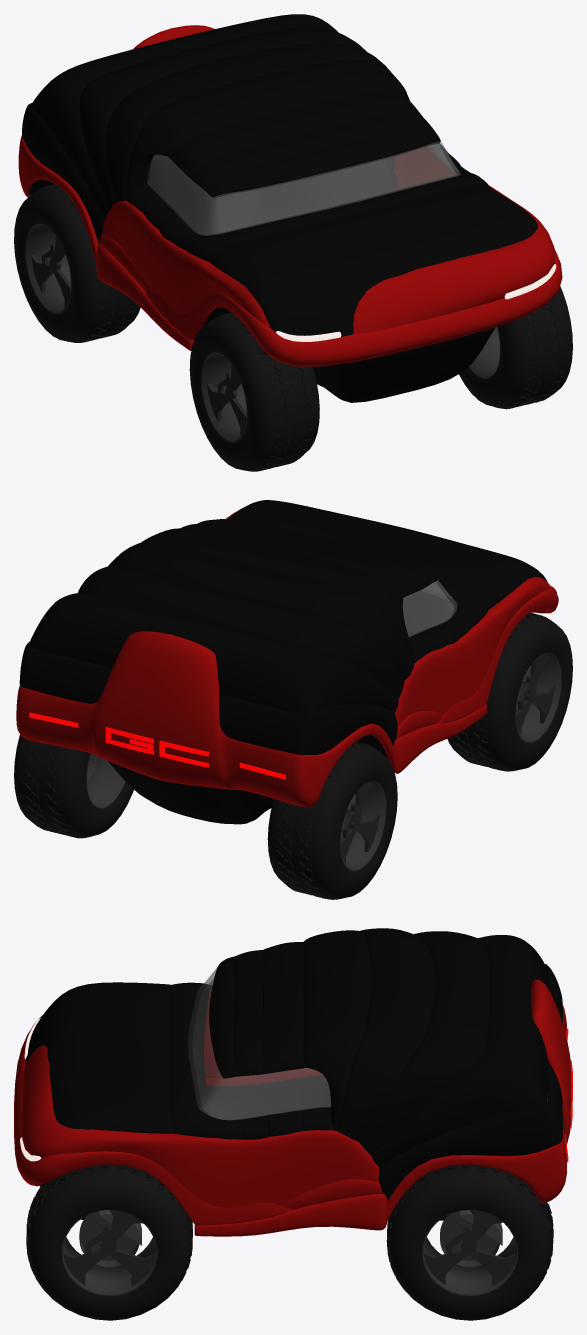
3 renders of one model, top to bottom at view 1: azimuth 30°, elevation 25°; view 2: azimuth 150°, elevation 25°; view 3: azimuth 270°, elevation 25°, orthographic. The views are drawn at different scales.
Visible parts, largest first — view 1: body_paint_base, tire (×3), body_paint_trim_1, body_paint_sole, body_glass, body_paint_trim_2, rim_barrel (×3), body_paint_trim_5, rim_face (×2), body_paint_trim_4, body_paint_trim_3, body_light_head; view 2: body_paint_base, tire (×3), body_paint_trim_5, body_paint_trim_1, body_paint_sole, rim_barrel (×3), rim_face (×2), body_paint_trim_2, body_glass, body_paint_trim_4, body_light_tail, body_paint_trim_3; view 3: body_paint_base, tire (×2), body_paint_trim_1, body_glass, body_paint_trim_5, body_paint_trim_2, rim_face (×2), body_paint_trim_4, rim_barrel (×2), body_paint_sole, brake_disc (×2), body_paint_trim_3.
Part boxes in pixels (bbox=[...]): body_paint_base: bbox=[22, 14, 538, 336]; tire (×3): bbox=[14, 184, 572, 471]; body_paint_trim_1: bbox=[102, 146, 554, 334]; body_paint_sole: bbox=[28, 155, 495, 402]; body_glass: bbox=[147, 141, 460, 235]; body_paint_trim_2: bbox=[145, 250, 562, 366]; rim_barrel (×3): bbox=[25, 223, 500, 442]; body_paint_trim_5: bbox=[18, 25, 214, 265]; rim_face (×2): bbox=[31, 235, 246, 436]; body_paint_trim_4: bbox=[96, 178, 402, 350]; body_paint_trim_3: bbox=[99, 163, 402, 292]; body_light_head: bbox=[276, 264, 556, 341]; body_paint_base: bbox=[19, 500, 547, 755]; tire (×3): bbox=[14, 613, 572, 899]; body_paint_trim_5: bbox=[16, 631, 396, 807]; body_paint_trim_1: bbox=[225, 507, 550, 725]; body_paint_sole: bbox=[108, 595, 453, 824]; rim_barrel (×3): bbox=[86, 652, 561, 871]; rim_face (×2): bbox=[340, 653, 554, 863]; body_paint_trim_2: bbox=[438, 586, 558, 723]; body_glass: bbox=[402, 580, 456, 637]; body_paint_trim_4: bbox=[393, 704, 487, 773]; body_light_tail: bbox=[29, 712, 285, 779]; body_paint_trim_3: bbox=[396, 711, 442, 738]; body_paint_base: bbox=[25, 928, 562, 1200]; tire (×2): bbox=[26, 1164, 553, 1320]; body_paint_trim_1: bbox=[21, 992, 378, 1207]; body_glass: bbox=[188, 967, 330, 1120]; body_paint_trim_5: bbox=[386, 979, 571, 1220]; body_paint_trim_2: bbox=[14, 1015, 291, 1225]; rim_face (×2): bbox=[63, 1210, 516, 1286]; body_paint_trim_4: bbox=[194, 1068, 387, 1236]; rim_barrel (×2): bbox=[61, 1209, 518, 1296]; body_paint_sole: bbox=[39, 1075, 547, 1223]; brake_disc (×2): bbox=[79, 1211, 499, 1267]; body_paint_trim_3: bbox=[277, 1072, 382, 1209].
Bounding box in the file's own units: 2.71 × 2.11 × 3.94.
